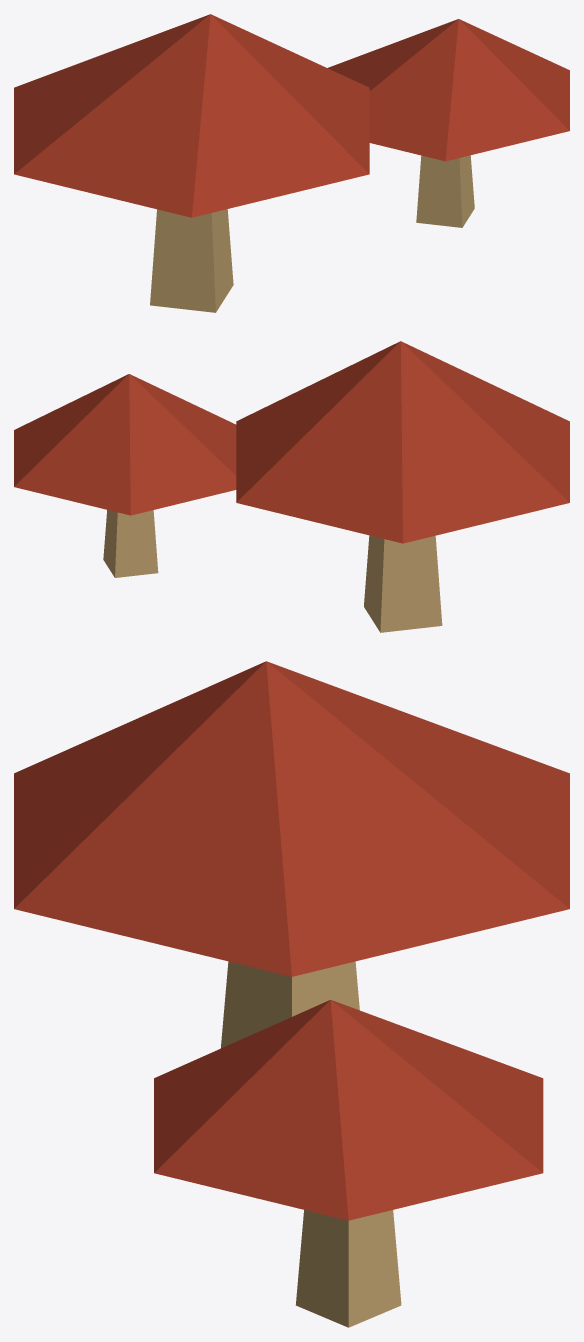
The model's file is Mushrooms.fbx.
3 views of the same model, one above another, from view 1: azimuth 30°, elevation 25°; view 2: azimuth 150°, elevation 25°; view 3: azimuth 270°, elevation 25° (orthographic). The views are drawn at different scales.
Parts seen in each view (by area): view 1: Mushrooms; view 2: Mushrooms; view 3: Mushrooms.
Part boxes in pixels (x1,y1,x2,y2): Mushrooms: (14,14,569,312); Mushrooms: (14,341,569,632); Mushrooms: (14,661,569,1327).
Size of the model in its own units: 54.9 by 26 by 29.44.
